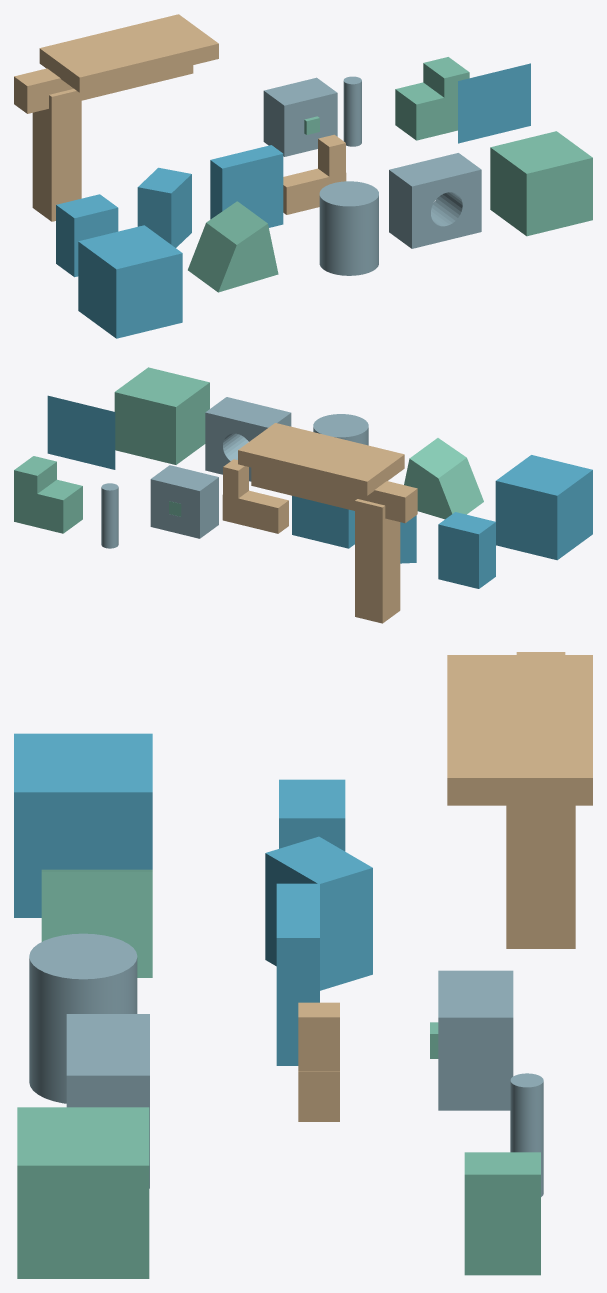
Rendered from inspection-lab.glb.
The picture shows the model from 3 angles, top to bottom: view 1: azimuth 30°, elevation 25°; view 2: azimuth 150°, elevation 25°; view 3: azimuth 270°, elevation 25°; orthographic projection. The views are drawn at different scales.
Visible parts, largest first — view 1: Cubo de 100 mm, Peça com cavidade interna, Laje, Furo passante, Pilar, Prisma assimétrico, Cilindro, Bloco em escala não uniforme, Malha aberta, Conector fêmea, Prisma com rebaixo lateral, Bloco rotacionado (+4 smaller); view 2: Cubo de 100 mm, Peça com cavidade interna, Laje, Pilar, Prisma assimétrico, Conector fêmea, Prisma com rebaixo lateral, Malha aberta, Bloco instanciado, Furo passante, Viga, Conjunto composto (+4 smaller); view 3: Peça com cavidade interna, Laje, Cubo de 100 mm, Cilindro, Conector fêmea, Bloco rotacionado, Prisma com rebaixo lateral, Prisma assimétrico, Furo passante, Pilar, Bloco em escala não uniforme, Conjunto composto (+3 smaller).
Part boxes in pixels (bbox=[...]): Cubo de 100 mm: bbox=[78, 225, 182, 338]; Peça com cavidade interna: bbox=[490, 131, 592, 236]; Laje: bbox=[39, 14, 218, 92]; Furo passante: bbox=[389, 153, 481, 248]; Pilar: bbox=[32, 89, 81, 221]; Prisma assimétrico: bbox=[188, 201, 278, 292]; Cilindro: bbox=[319, 181, 378, 275]; Bloco em escala não uniforme: bbox=[210, 145, 283, 227]; Malha aberta: bbox=[458, 63, 530, 143]; Conector fêmea: bbox=[263, 77, 337, 156]; Prisma com rebaixo lateral: bbox=[395, 57, 469, 140]; Bloco rotacionado: bbox=[137, 167, 191, 247]; Cubo de 100 mm: bbox=[495, 455, 592, 560]; Peça com cavidade interna: bbox=[114, 367, 209, 464]; Laje: bbox=[238, 423, 404, 495]; Pilar: bbox=[355, 499, 400, 623]; Prisma assimétrico: bbox=[404, 438, 483, 519]; Conector fêmea: bbox=[150, 465, 218, 538]; Prisma com rebaixo lateral: bbox=[14, 456, 82, 533]; Malha aberta: bbox=[47, 395, 115, 469]; Bloco instanciado: bbox=[438, 512, 495, 588]; Furo passante: bbox=[205, 397, 291, 481]; Viga: bbox=[251, 467, 417, 523]; Conjunto composto: bbox=[222, 459, 288, 533]; Peça com cavidade interna: bbox=[17, 1107, 149, 1278]; Laje: bbox=[447, 655, 592, 805]; Cubo de 100 mm: bbox=[14, 733, 152, 917]; Cilindro: bbox=[29, 933, 137, 1103]; Conector fêmea: bbox=[438, 970, 513, 1110]; Bloco rotacionado: bbox=[265, 836, 372, 990]; Prisma com rebaixo lateral: bbox=[464, 1152, 540, 1275]; Prisma assimétrico: bbox=[41, 869, 152, 977]; Furo passante: bbox=[66, 1014, 149, 1188]; Pilar: bbox=[506, 805, 575, 948]; Bloco em escala não uniforme: bbox=[276, 883, 319, 1065]; Conjunto composto: bbox=[298, 1002, 339, 1121].
Size of the model in its own units: 0.755 by 0.221 by 0.4175.
